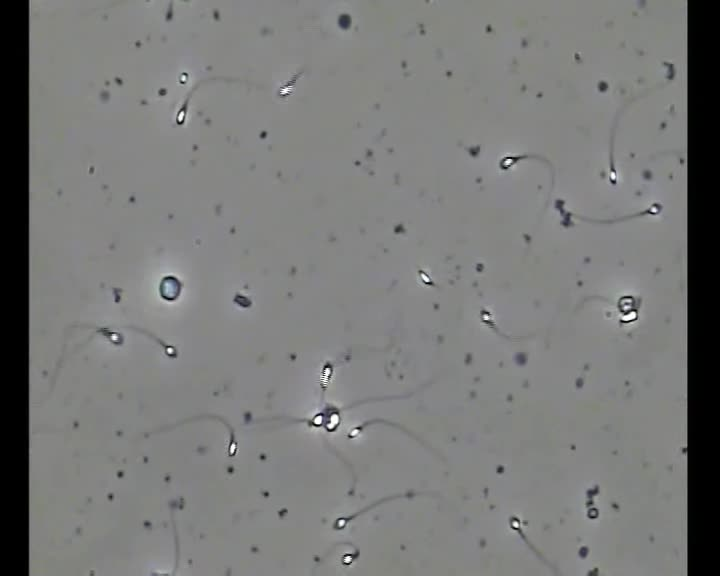spermhead: (616, 295, 639, 325), (158, 275, 182, 301), (96, 327, 123, 345), (277, 74, 297, 97), (323, 405, 340, 432), (232, 292, 252, 309), (417, 268, 433, 286), (498, 155, 517, 170), (509, 515, 524, 534), (586, 482, 599, 502), (308, 411, 324, 427), (342, 549, 358, 565), (480, 308, 494, 326), (347, 425, 363, 439), (560, 210, 573, 227), (175, 105, 186, 125), (321, 362, 333, 380), (333, 516, 348, 530), (647, 202, 663, 215), (227, 436, 237, 456), (163, 344, 177, 358), (553, 198, 566, 213), (607, 168, 618, 185), (178, 71, 189, 85), (404, 488, 416, 500), (587, 506, 598, 519), (152, 569, 169, 575)
